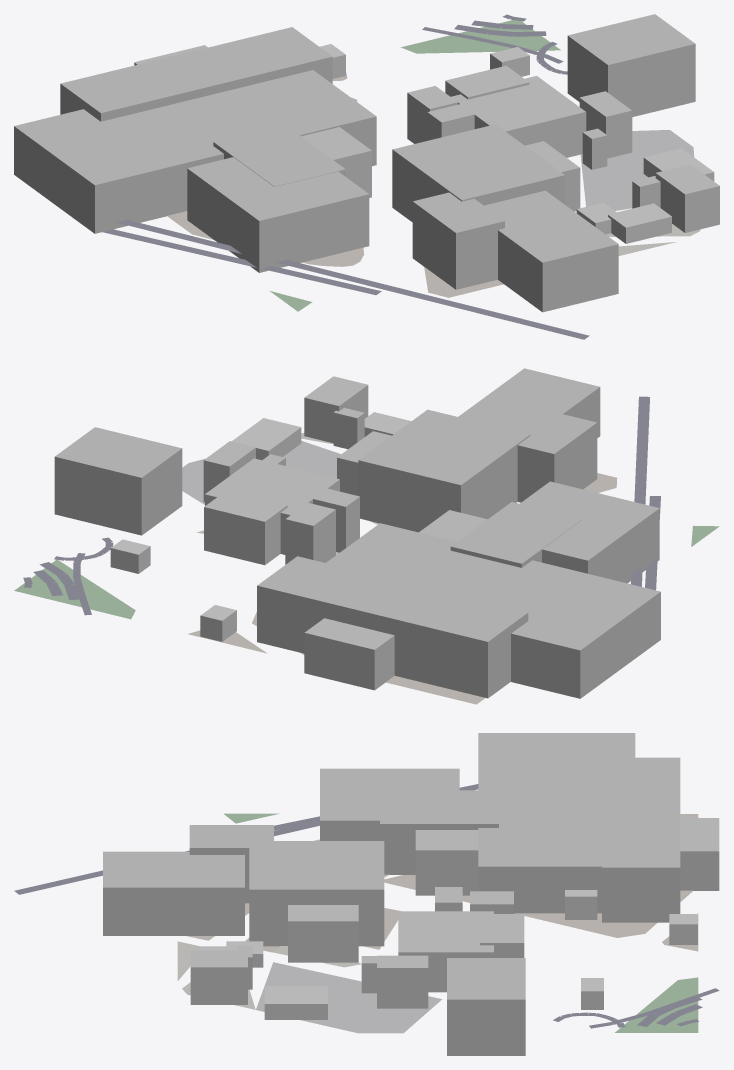
The model's file is 126_111_mid.glb.
3 renders of one model, top to bottom at view 1: azimuth 30°, elevation 25°; view 2: azimuth 150°, elevation 25°; view 3: azimuth 270°, elevation 25°, orthographic. The views are drawn at different scales.
Bounding box in the file's own units: 629 × 61.48 × 678.
